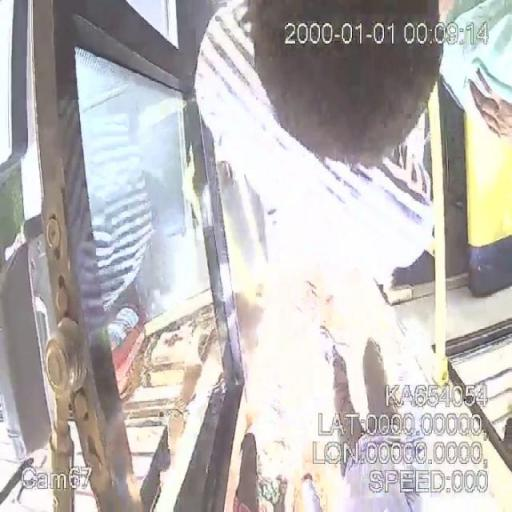persona: (191, 0, 445, 267), (340, 337, 426, 511)
